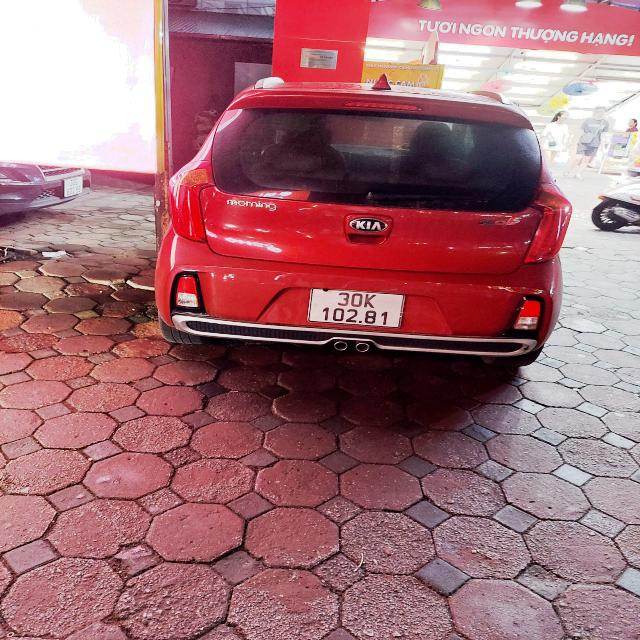license_plate: (308, 289, 407, 330)
